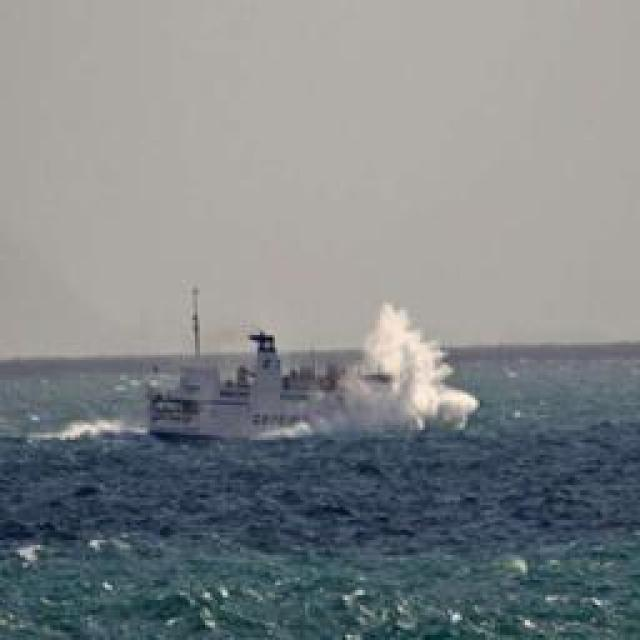CIV_Ship: (154, 320, 406, 445)
